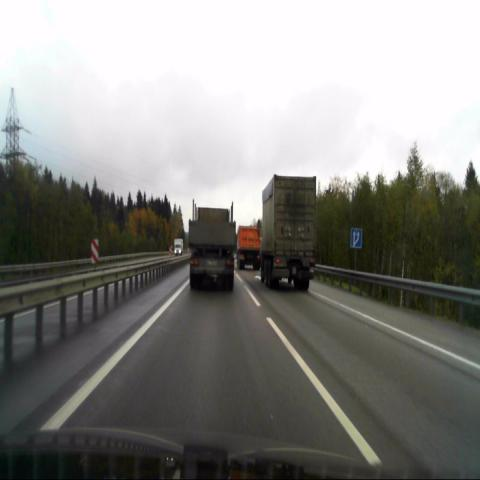5_15_3: (350, 228, 361, 248)
